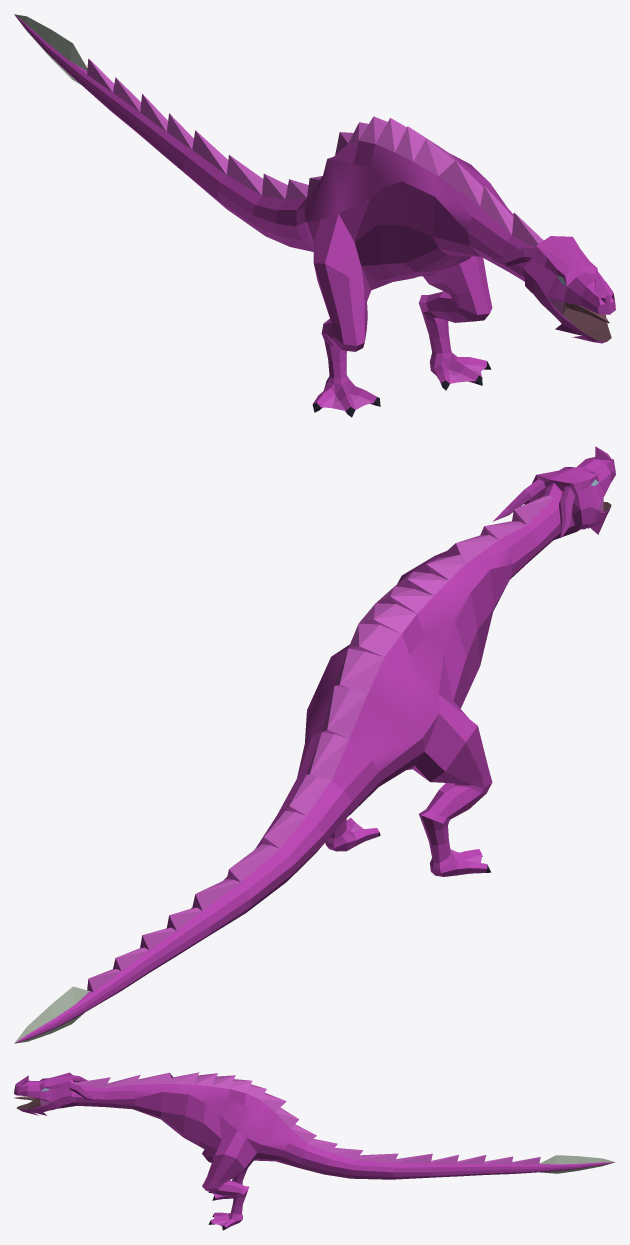
Rendered from dragon_body.obj.
The picture shows the model from 3 angles, top to bottom: view 1: azimuth 30°, elevation 25°; view 2: azimuth 150°, elevation 25°; view 3: azimuth 270°, elevation 25°; orthographic projection. The views are drawn at different scales.
Visible parts, largest first — view 1: Cylinder; view 2: Cylinder; view 3: Cylinder.
Part boxes in pixels (x1=…): Cylinder: x1=14, y1=14, x2=615, y2=417; Cylinder: x1=14, y1=446, x2=615, y2=1043; Cylinder: x1=14, y1=1072, x2=615, y2=1230.
Size of the model in its own units: 13.23 by 19.33 by 77.13.
Materials: 1 (1 with a texture image).
